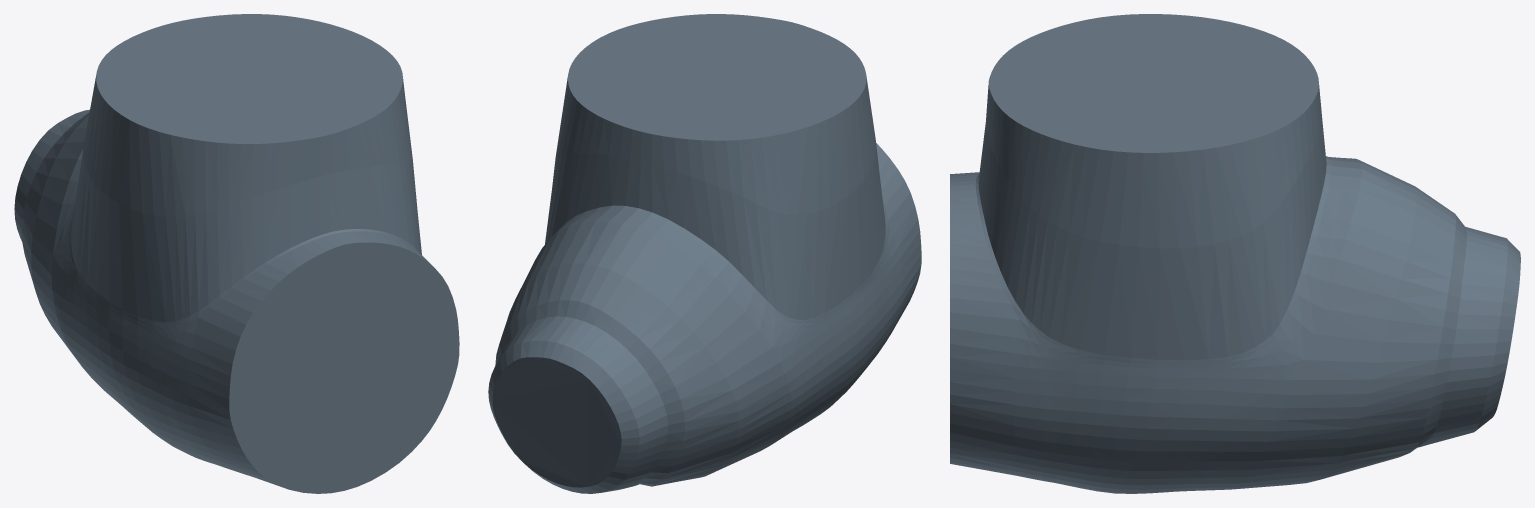
3 views of the same model, side by side, from view 1: azimuth 30°, elevation 25°; view 2: azimuth 150°, elevation 25°; view 3: azimuth 270°, elevation 25° (orthographic). The views are drawn at different scales.
Parts seen in each view (by area): view 1: MF1509_5_0; view 2: MF1509_5_0; view 3: MF1509_5_0.
Boxes of the visible parts, x1,y1,x2,y2 form: MF1509_5_0: (14,14,459,493); MF1509_5_0: (488,14,921,493); MF1509_5_0: (950,14,1520,493).
Size of the model in its own units: 107 by 174 by 133.
